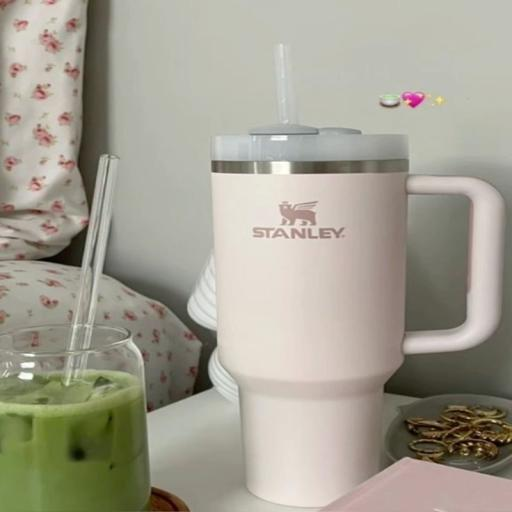bench: (200, 120, 505, 506)
